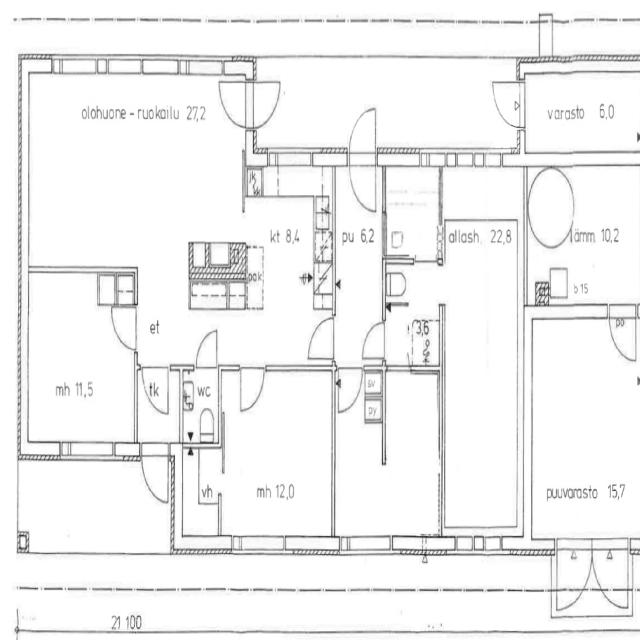door: (557, 538, 593, 614), (593, 538, 628, 614), (141, 442, 168, 506), (245, 82, 283, 127), (218, 82, 256, 127), (489, 81, 525, 128), (350, 102, 376, 166), (350, 147, 376, 210), (609, 305, 635, 364), (142, 366, 168, 414), (338, 366, 363, 412), (308, 317, 335, 359), (110, 308, 137, 350), (241, 366, 264, 410), (361, 322, 386, 358), (196, 331, 216, 371)
